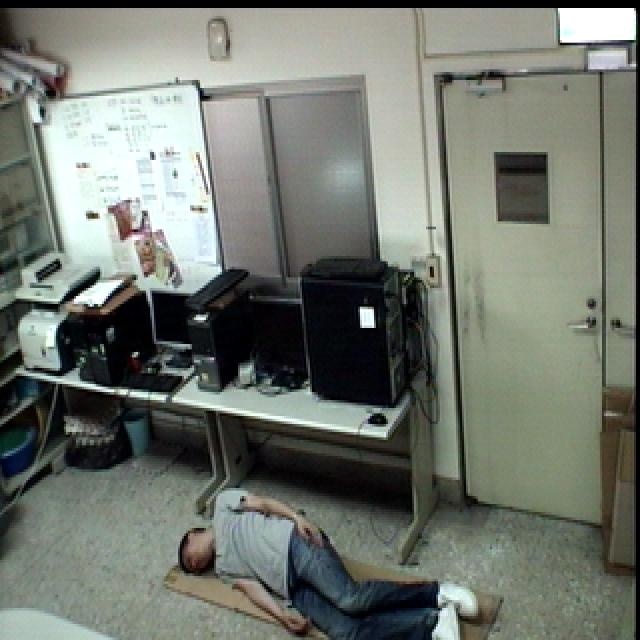lie: (154, 486, 480, 640)
